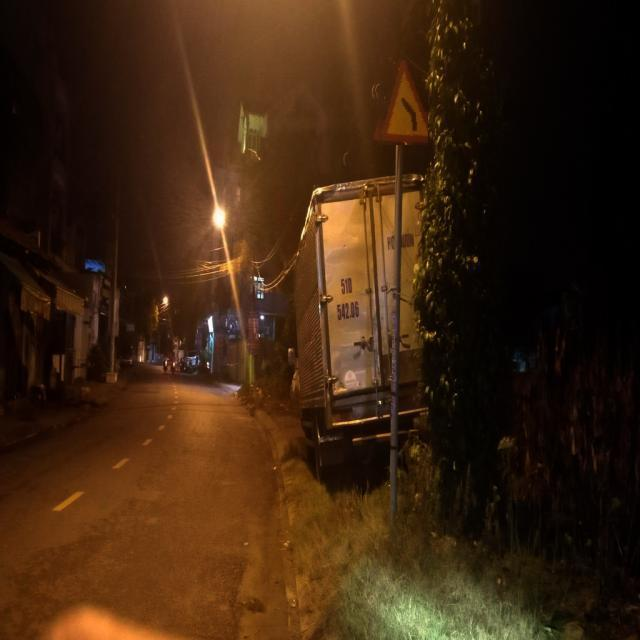201-cho-ngoat-nguy-hiem: (377, 62, 435, 146)
